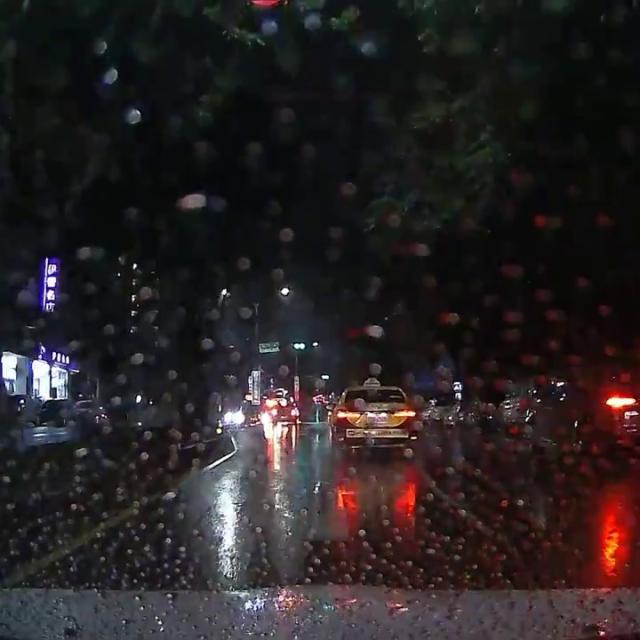Car: (513, 362, 639, 464), (317, 382, 417, 457), (18, 395, 104, 444), (496, 381, 564, 431), (421, 394, 462, 427), (267, 398, 300, 428)
